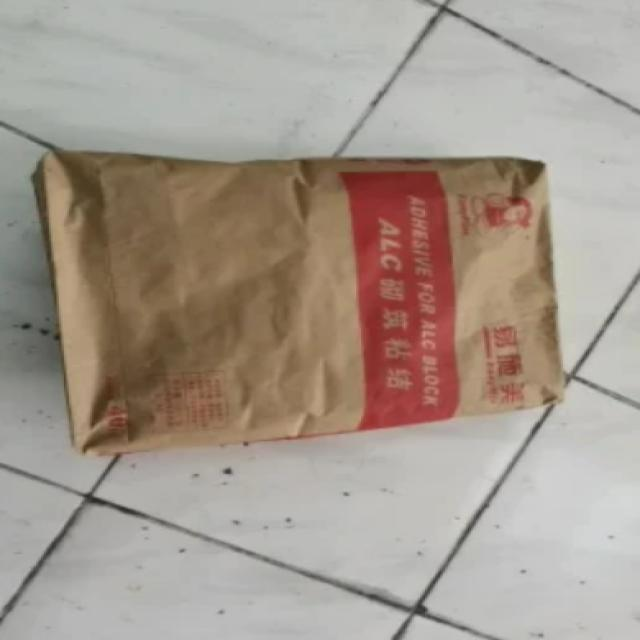KantongSemen: (31, 148, 566, 456)
